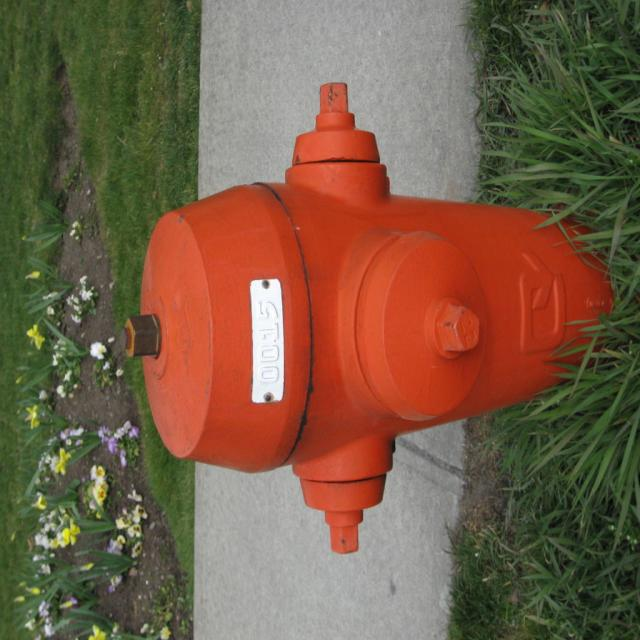fire_hydrant: (117, 84, 615, 556)
